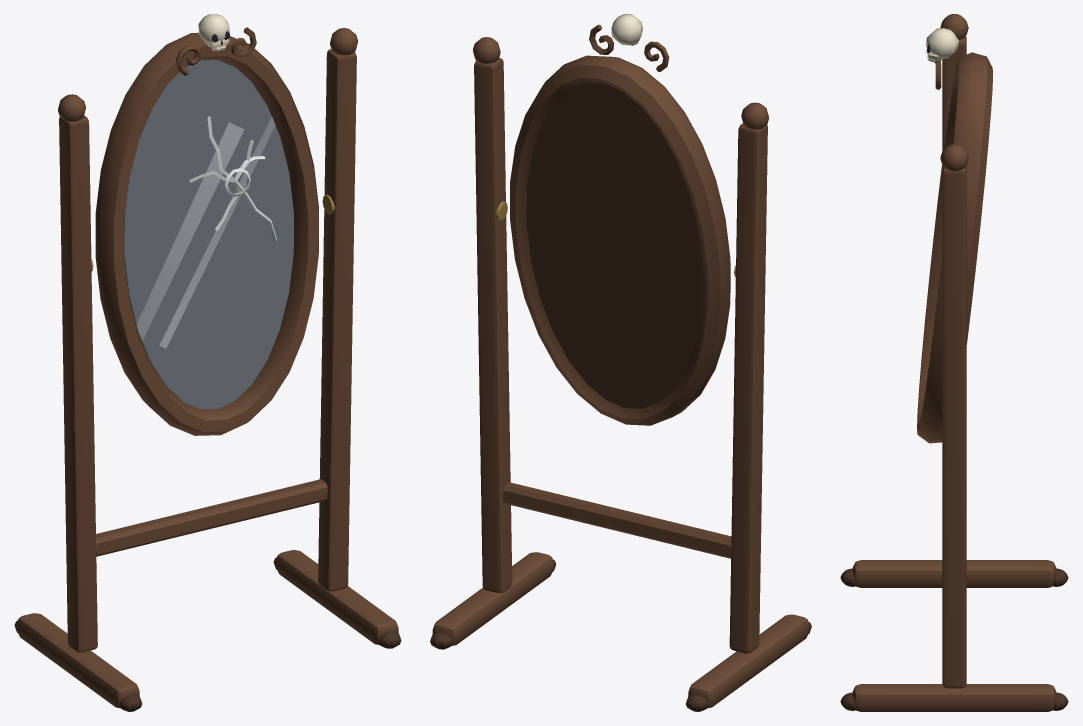
The model's file is mirror_cracked.glb.
3 renders of one model, left to right at view 1: azimuth 30°, elevation 25°; view 2: azimuth 150°, elevation 25°; view 3: azimuth 270°, elevation 25°, orthographic.
Parts seen in each view (by area): view 1: mirror_cracked; view 2: mirror_cracked; view 3: mirror_cracked.
Part boxes in pixels (x1,y1,x2,y2): mirror_cracked: (14,14,401,711); mirror_cracked: (430,14,811,711); mirror_cracked: (840,14,1068,711).
Bounding box in the file's own units: 0.8226 × 1.67 × 0.56.
